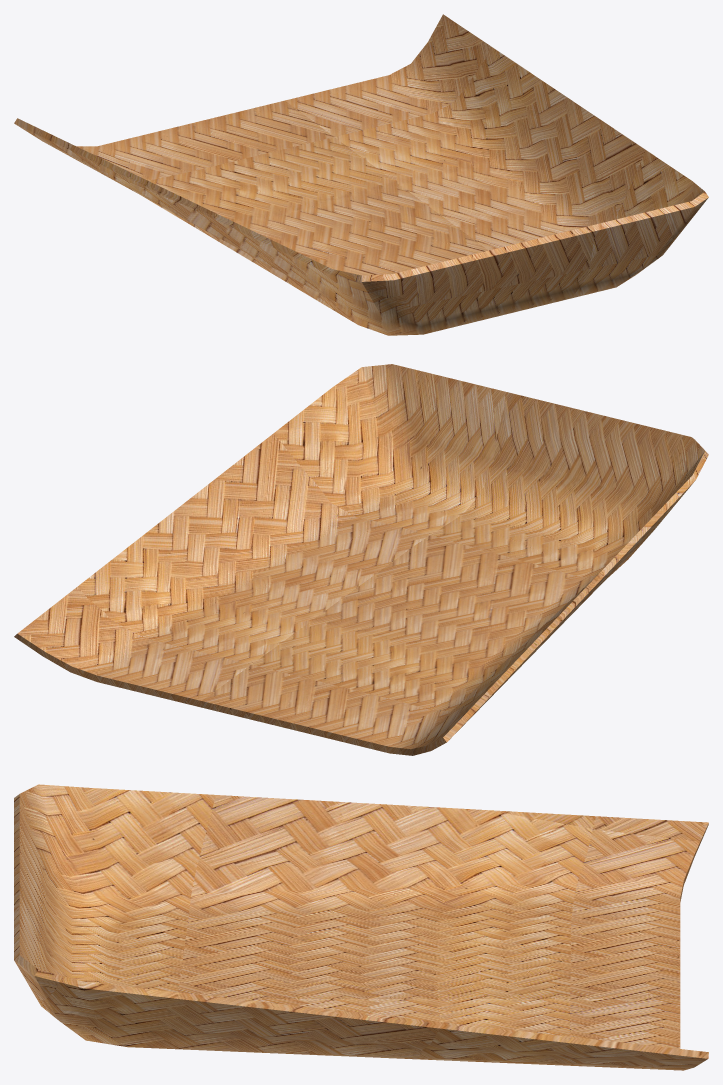
File: winnowing basket.fbx
3 views of the same model, one above another, from view 1: azimuth 30°, elevation 25°; view 2: azimuth 150°, elevation 25°; view 3: azimuth 270°, elevation 25° (orthographic). The views are drawn at different scales.
Visible parts, largest first — view 1: sos_game_play_models:winnowing_basket; view 2: sos_game_play_models:winnowing_basket; view 3: sos_game_play_models:winnowing_basket.
Part boxes in pixels (x1=…): sos_game_play_models:winnowing_basket: x1=14, y1=14, x2=708, y2=335; sos_game_play_models:winnowing_basket: x1=14, y1=364, x2=708, y2=755; sos_game_play_models:winnowing_basket: x1=14, y1=784, x2=708, y2=1070.
Bounding box in the file's own units: 37.1 × 8.12 × 46.66.
Materials: 1 (1 with a texture image).
